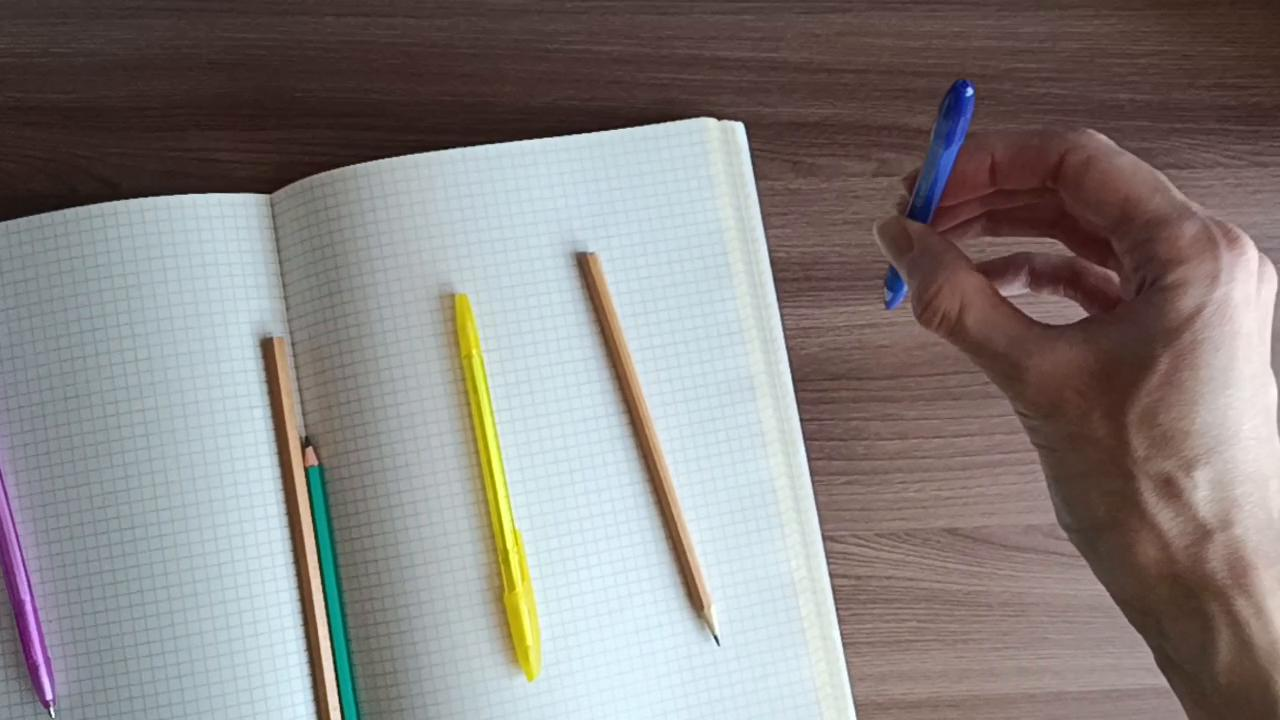pen: (446, 289, 550, 689), (877, 74, 981, 327), (0, 455, 62, 720)
pencil: (573, 243, 729, 650), (251, 325, 344, 720), (301, 432, 367, 720)
